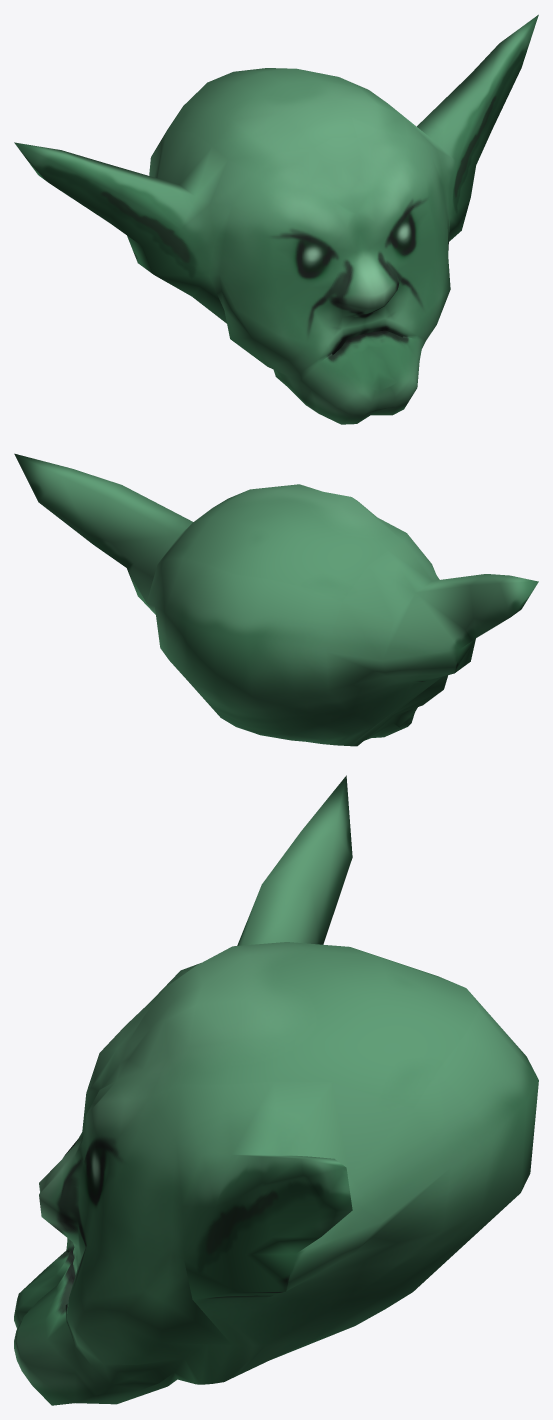
Rendered from goblinHead.fbx.
3 renders of one model, top to bottom at view 1: azimuth 30°, elevation 25°; view 2: azimuth 150°, elevation 25°; view 3: azimuth 270°, elevation 25°, orthographic. The views are drawn at different scales.
Visible parts, largest first — view 1: Object021; view 2: Object021; view 3: Object021.
Boxes of the visible parts, x1,y1,x2,y2 form: Object021: [14, 14, 538, 424]; Object021: [14, 453, 538, 746]; Object021: [14, 775, 538, 1405].
Size of the model in its own units: 2748 by 1367 by 1554.
